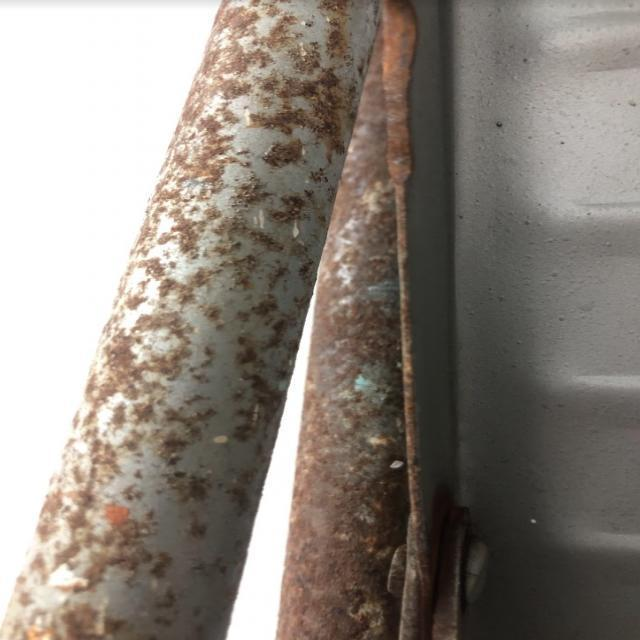Corrosion: (0, 0, 383, 639), (269, 0, 485, 639)
